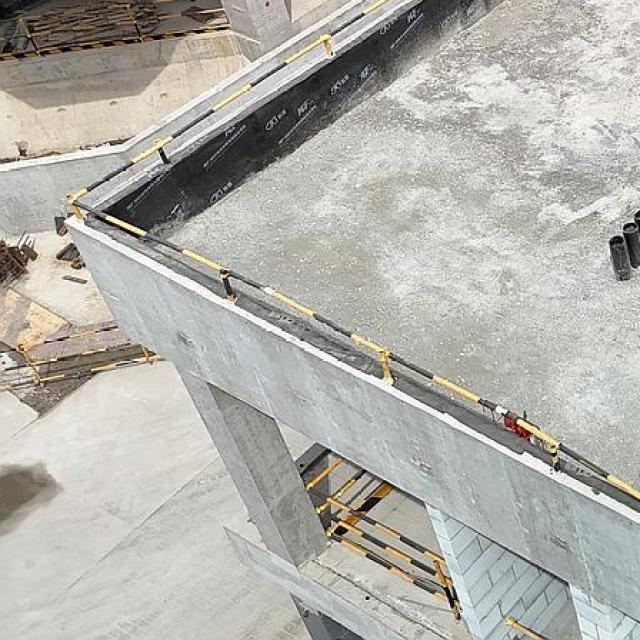edge_guardrail: (65, 0, 640, 503), (304, 455, 463, 621), (0, 0, 225, 51), (506, 621, 548, 640)
